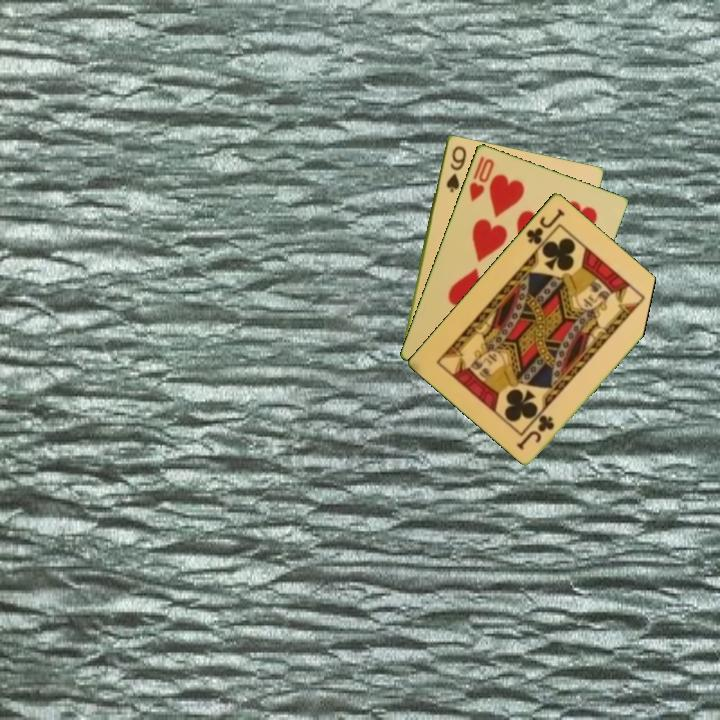10h: (465, 152, 497, 204)
9s: (442, 142, 469, 195)
Jc: (523, 204, 567, 247), (514, 411, 557, 452)
